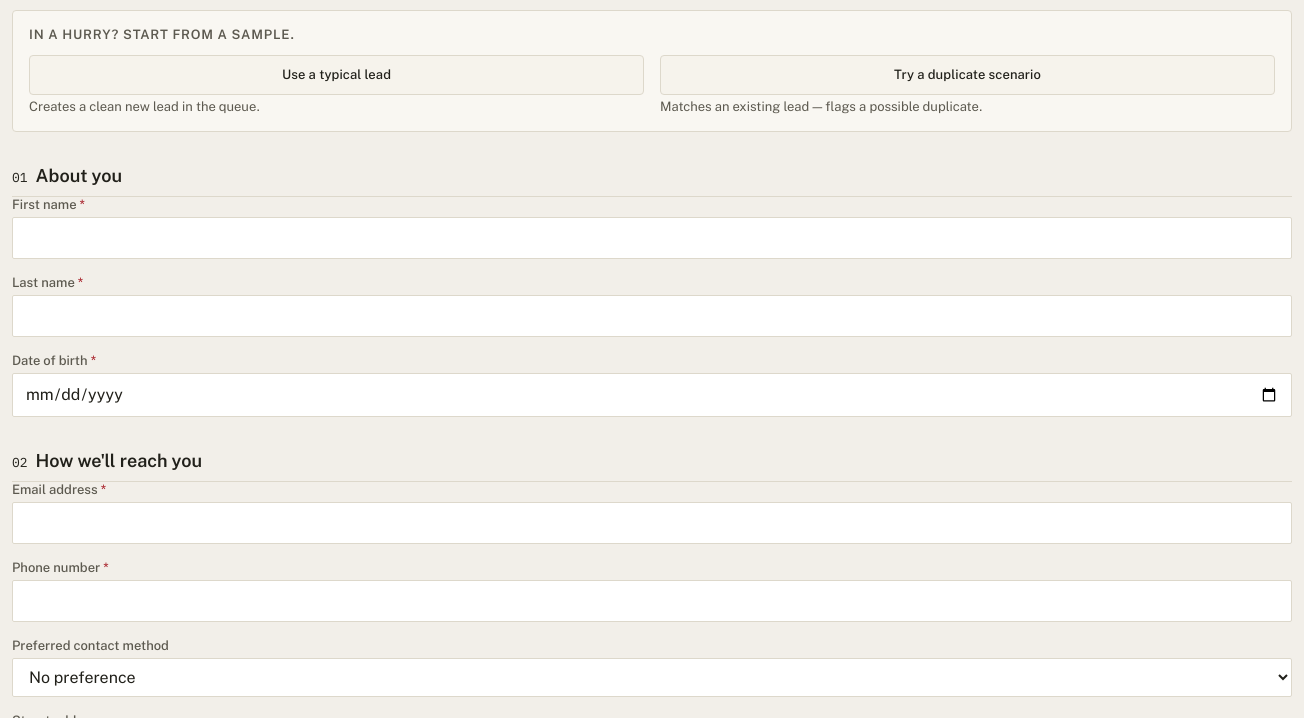
Scenario: ShopperIntakeForm submission › submits the sanitized body and shows the success panel
The width and height of the screenshot is (1304, 718).
Type "Margaret" into the field with id "shopper-intake-first-name" at [652, 238], box [12, 217, 1292, 259]
Type "Chen" into the field with id "shopper-intake-last-name" at [652, 316], box [12, 295, 1292, 337]
Type "1956-03-12" into the date field with id "shopper-intake-date-of-birth" at [652, 395], box [12, 373, 1292, 417]
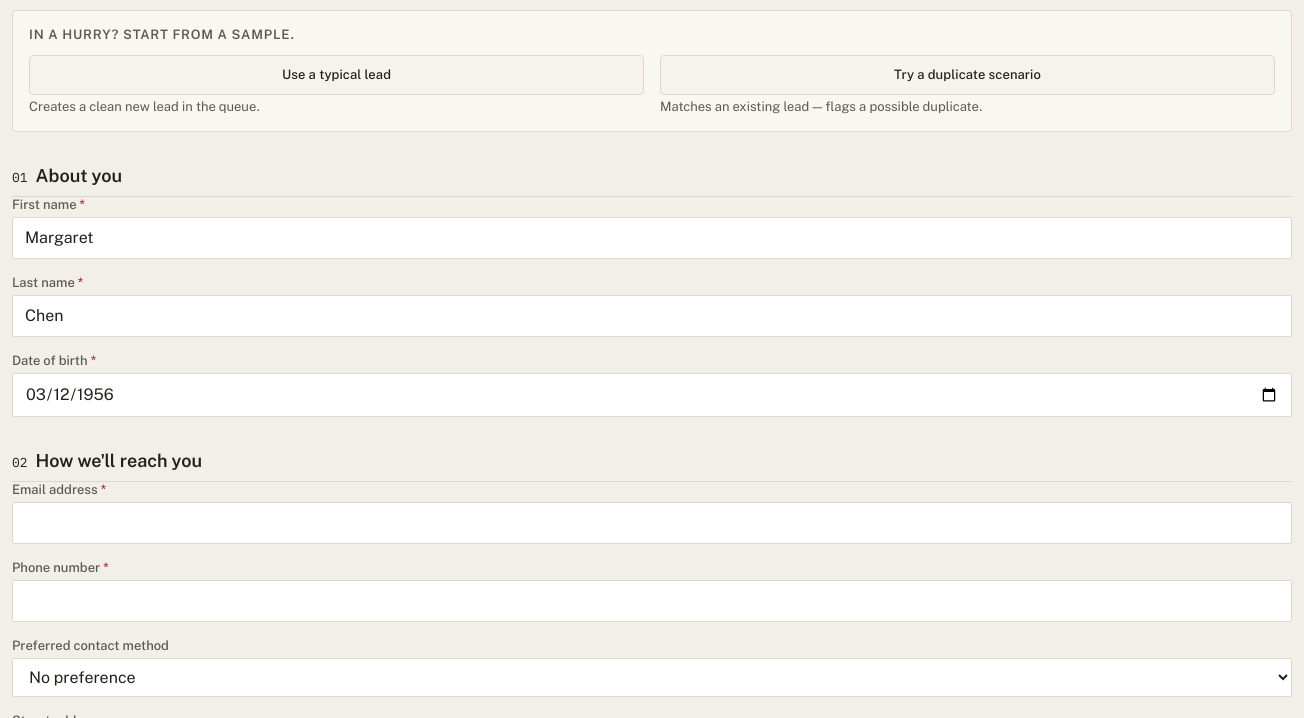
Type "margaret.chen@example.com" into the field with id "shopper-intake-email" at [652, 523], box [12, 502, 1292, 544]
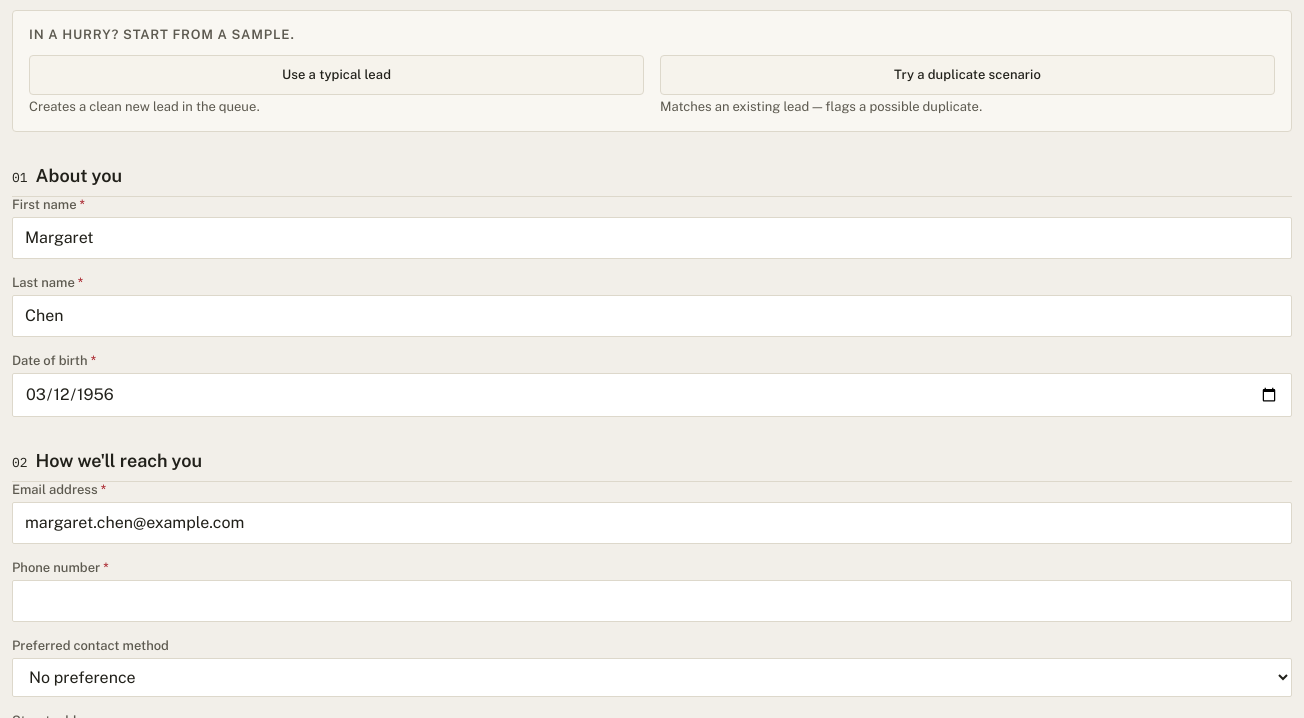
Type "(305) 555-0149" into the field with id "shopper-intake-phone" at [652, 601], box [12, 580, 1292, 622]
(page scrolled)
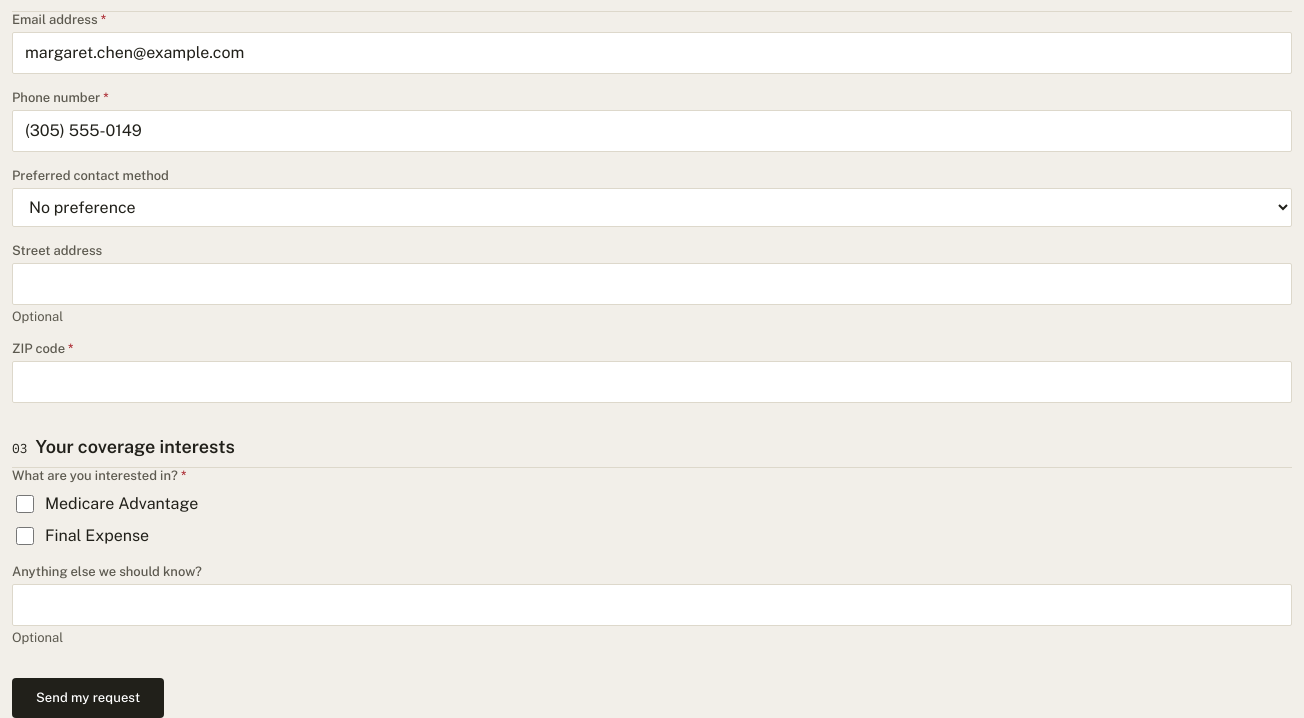
Type "33134" into the field with id "shopper-intake-zip-code" at [652, 382], box [12, 361, 1292, 403]
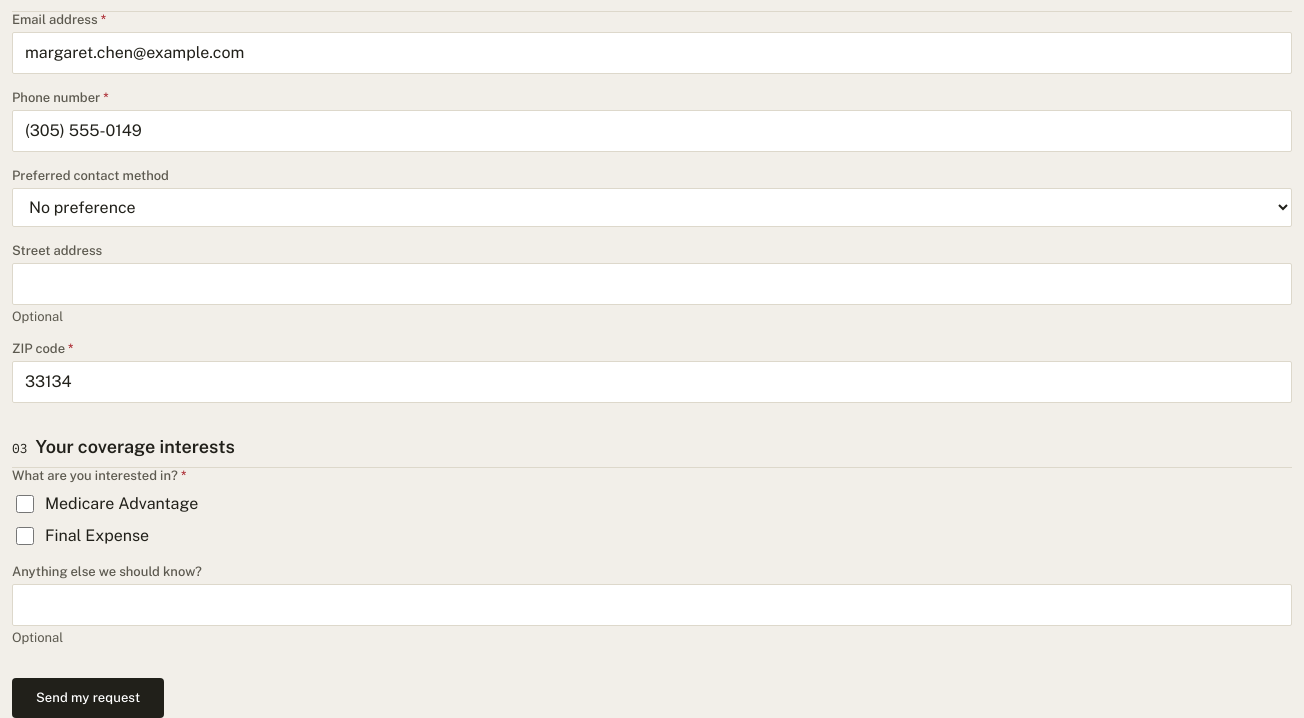
Click the checkbox with id "shopper-intake-product-lines-option-medicare_advantage" at [25, 504], box [16, 495, 34, 513]
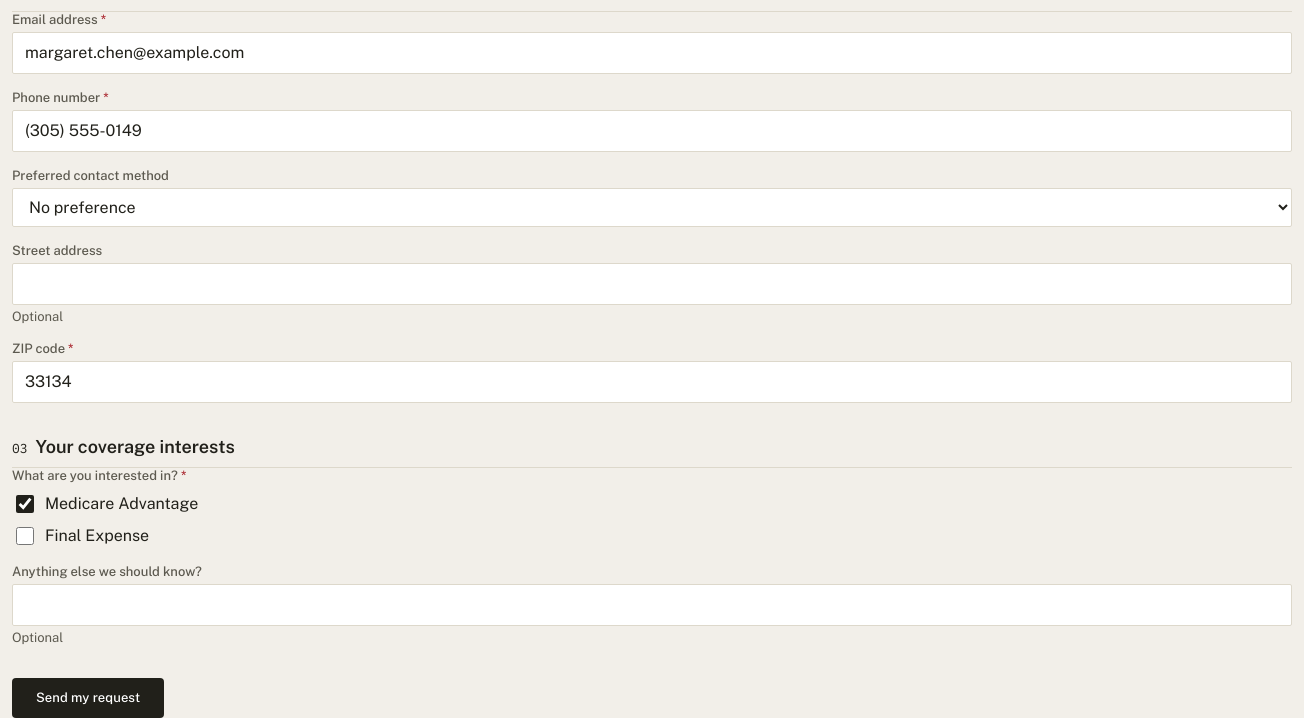
Click the button with id "shopper-intake-submit" at [88, 698], box [12, 678, 164, 717]
(page scrolled)
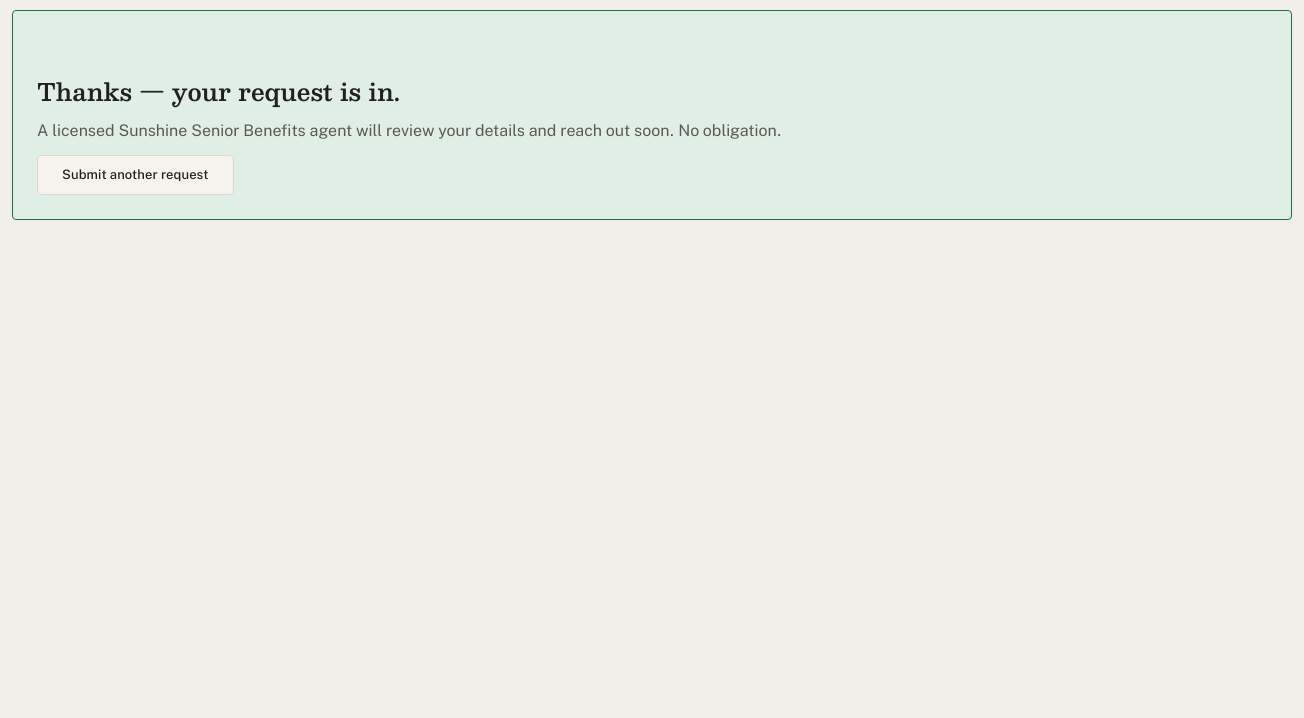
Expected: the message with id "shopper-intake-success" is shown, [12, 10, 1292, 220]
Expected: the text with id "shopper-intake-success-body" shows "Sunshine Senior Benefits", [118, 121, 306, 140]
